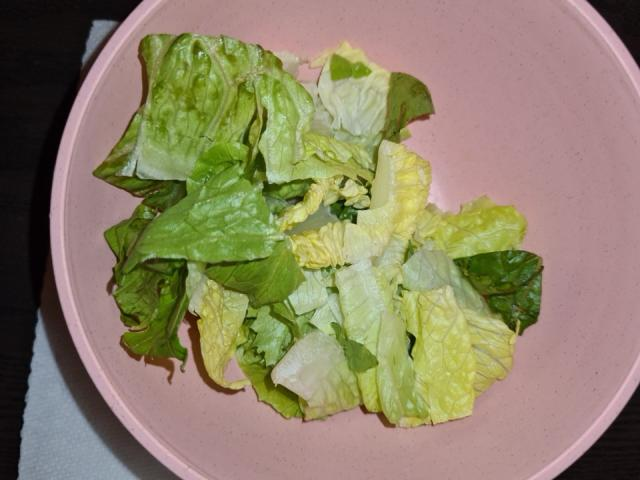kichen waste: (92, 33, 543, 426)
